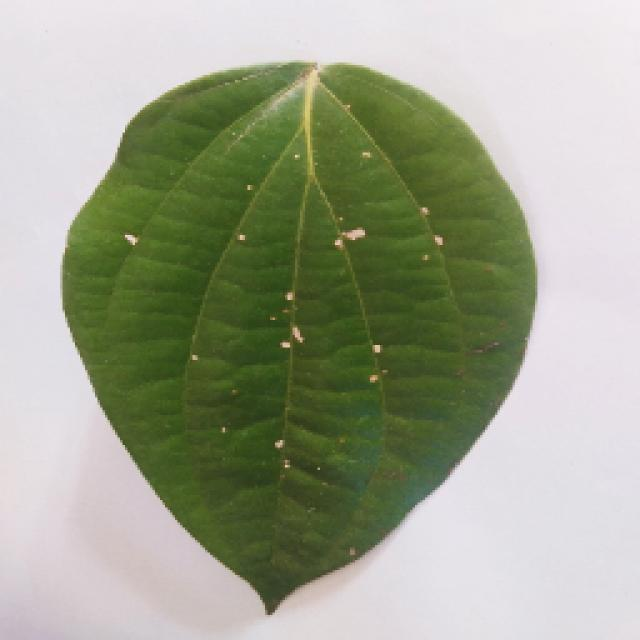pollu-disease: (57, 60, 535, 615)
